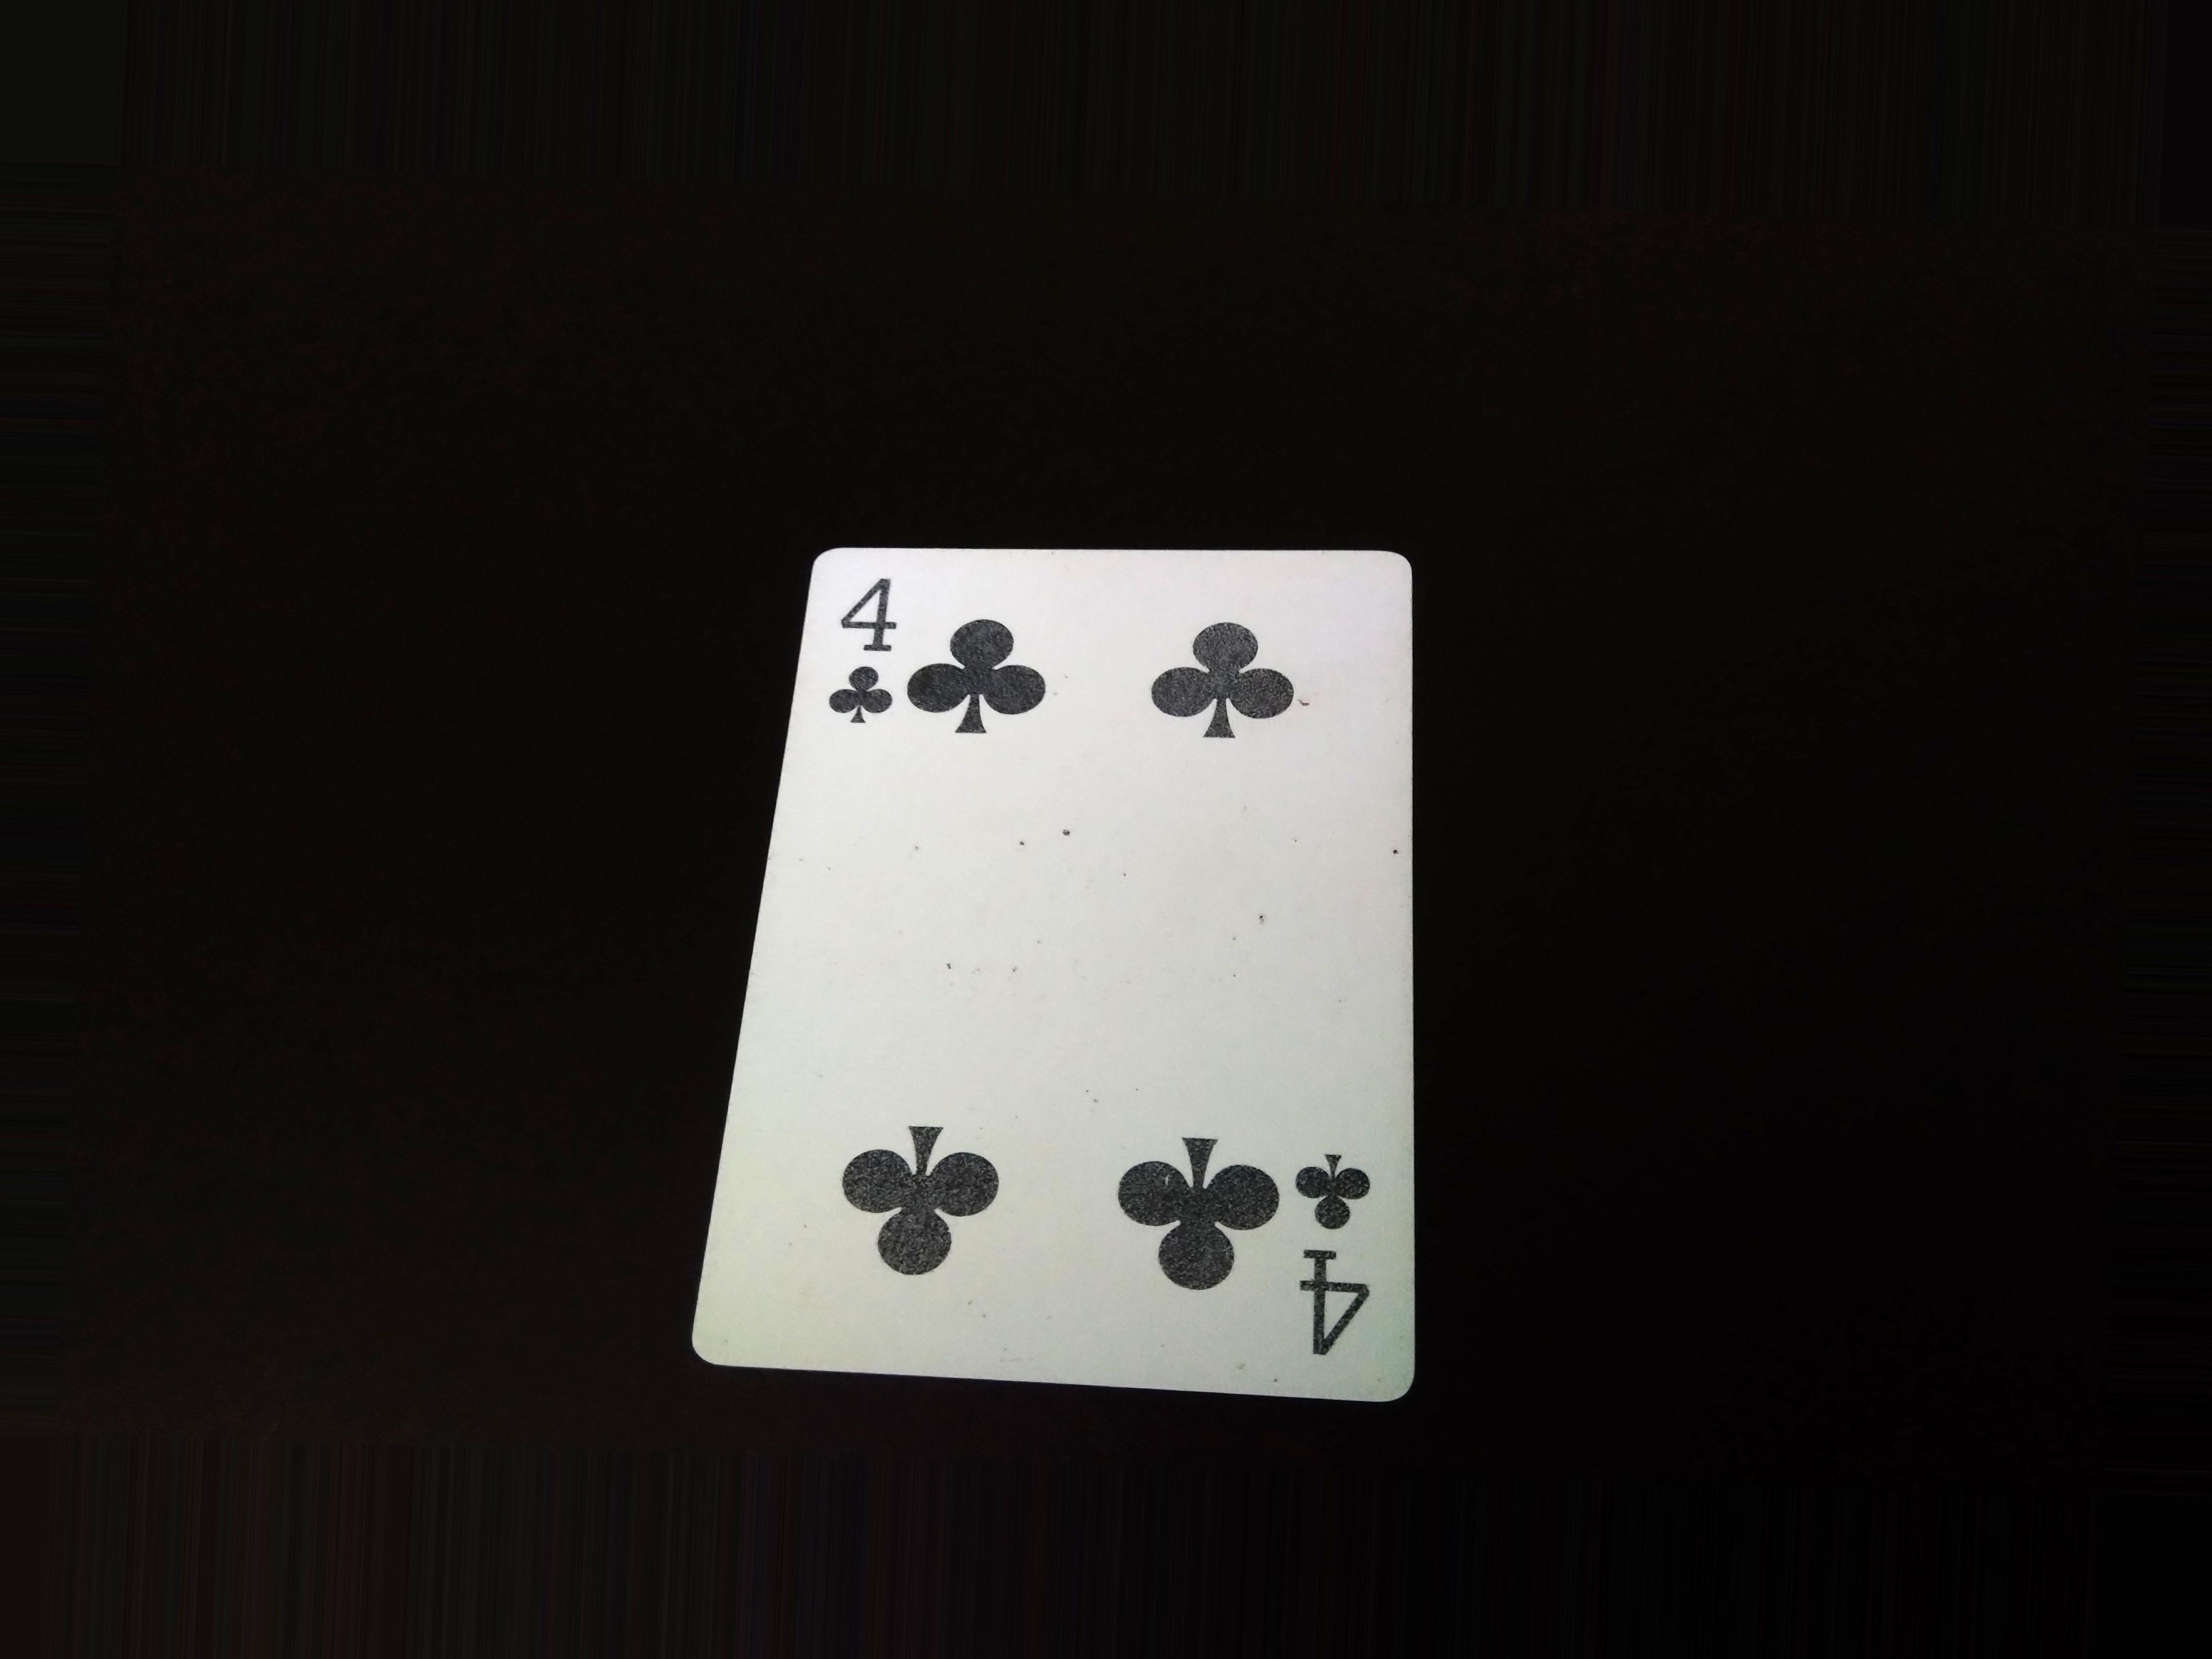4C: (1287, 1134, 1409, 1377)
